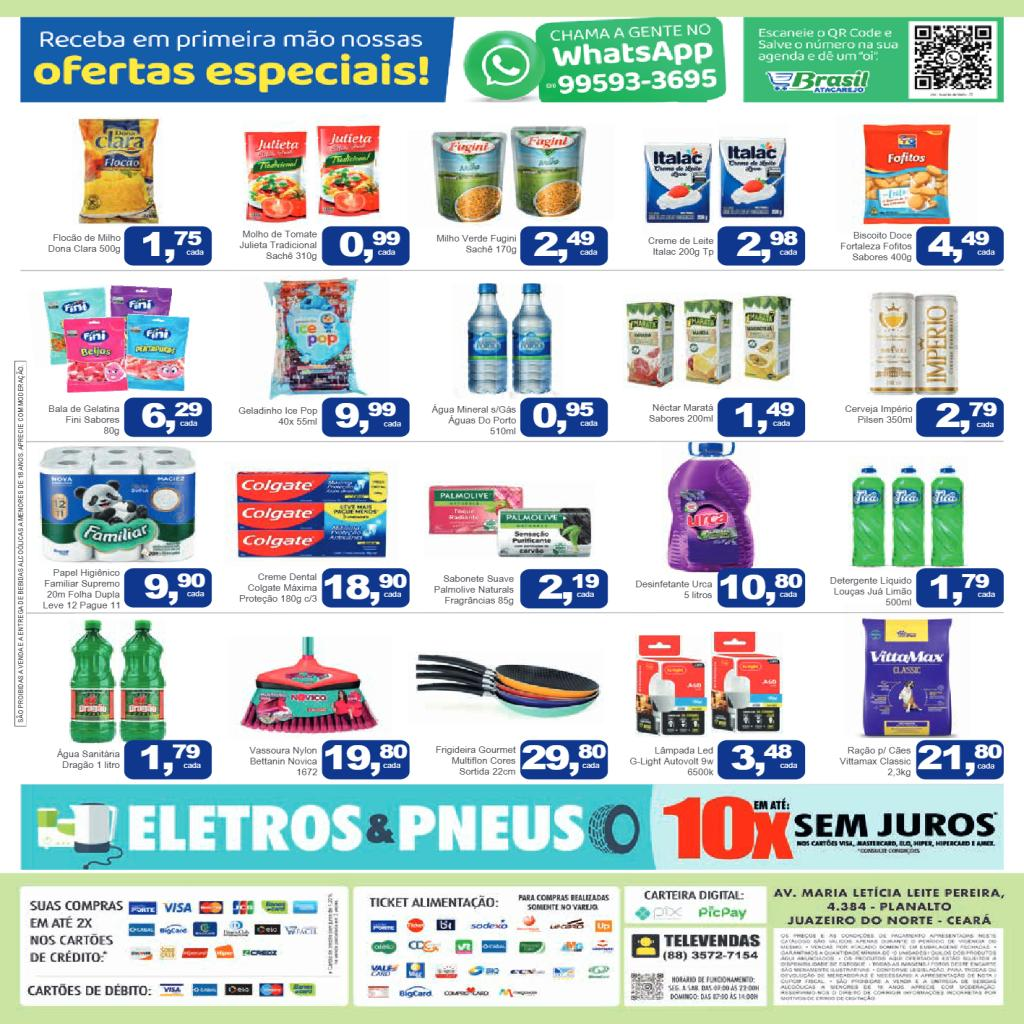price: (917, 742, 1003, 778), (521, 744, 607, 778), (719, 573, 804, 607), (324, 744, 407, 778), (323, 573, 408, 605), (334, 400, 403, 436), (532, 400, 602, 435), (928, 572, 998, 606), (728, 744, 798, 778), (533, 230, 601, 264), (735, 229, 801, 264), (927, 230, 996, 263), (141, 229, 206, 264), (534, 572, 600, 606), (338, 229, 402, 264), (935, 400, 999, 435), (140, 401, 203, 436), (140, 743, 204, 777), (734, 400, 796, 434), (143, 571, 205, 605)
product_text: (40, 566, 122, 611), (428, 401, 518, 438), (236, 228, 320, 265), (432, 743, 518, 779), (236, 570, 319, 606), (431, 573, 515, 608), (828, 574, 914, 608), (628, 745, 715, 778), (46, 404, 122, 438), (837, 230, 913, 264), (837, 744, 913, 778), (247, 745, 318, 778), (235, 405, 319, 429), (46, 231, 122, 257), (633, 578, 714, 602), (436, 233, 518, 256), (647, 401, 715, 426), (646, 234, 716, 258), (844, 402, 914, 426), (56, 747, 121, 772)
